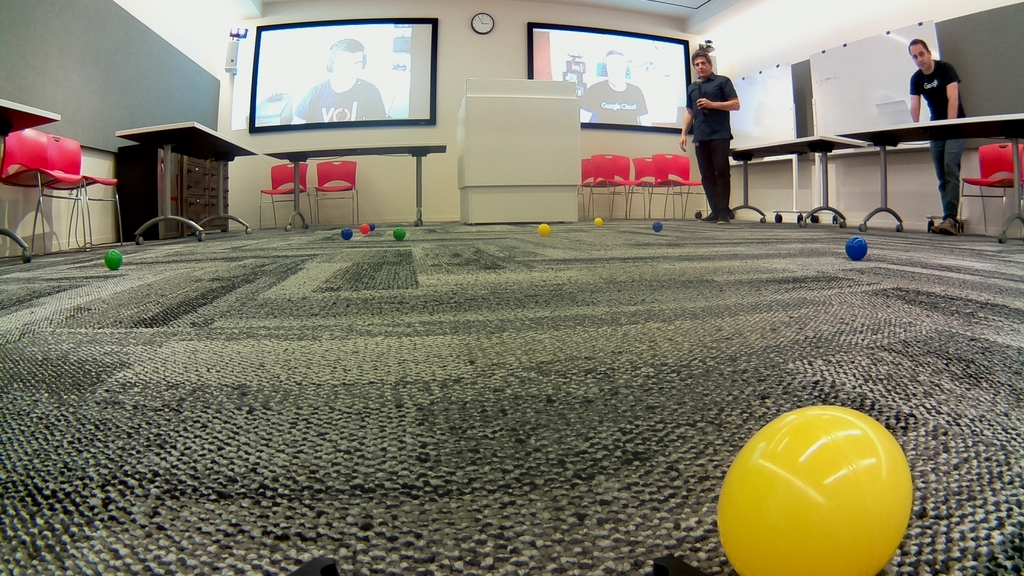ball: (108, 251, 123, 270)
